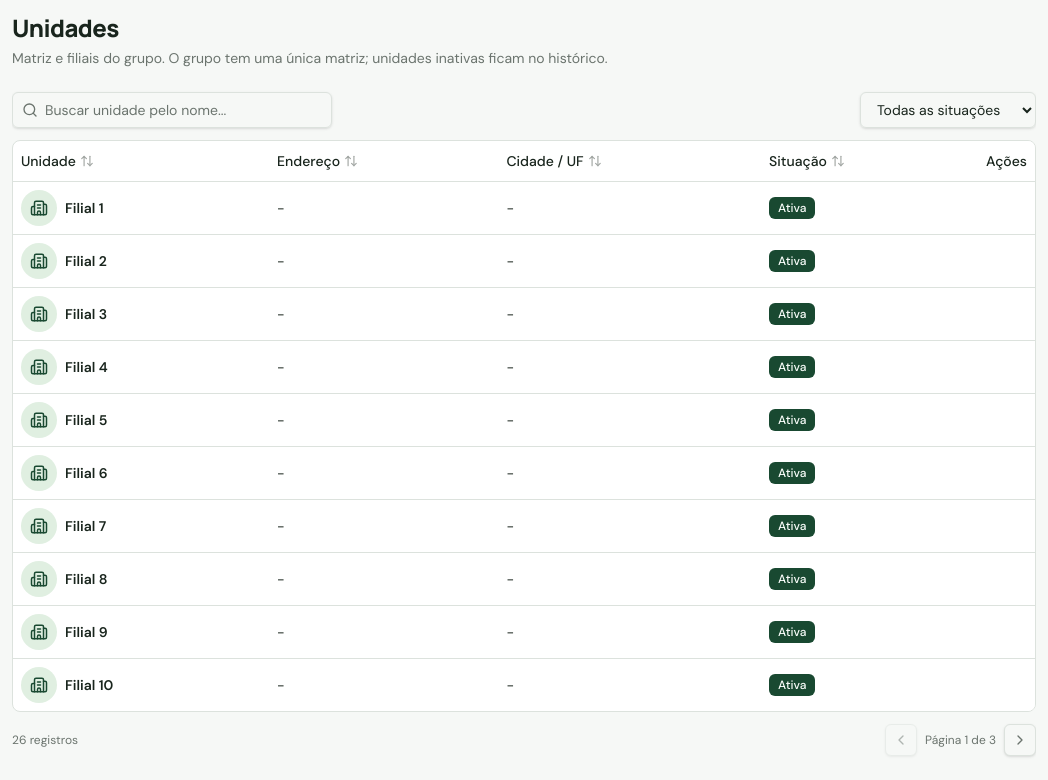
Test case: UnidadesPage › busca no servidor com debounce: 2 digitações = 1 GET com q, volta à página 1
Expected: the text "Filial 1" is shown, [21, 190, 104, 226]
Step 1. Click the button named "Próxima página" → [1020, 740], box [1004, 724, 1036, 756]
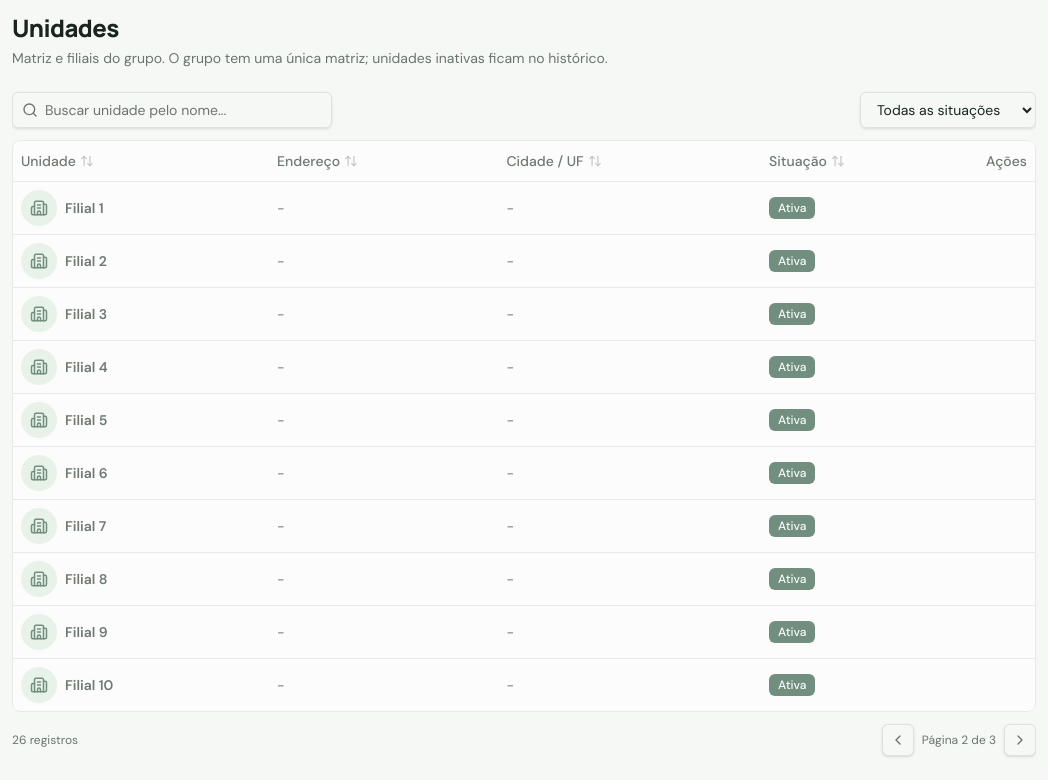
Step 2. Type "ze" into the field labelled "Buscar" → [172, 110], box [12, 92, 332, 128]
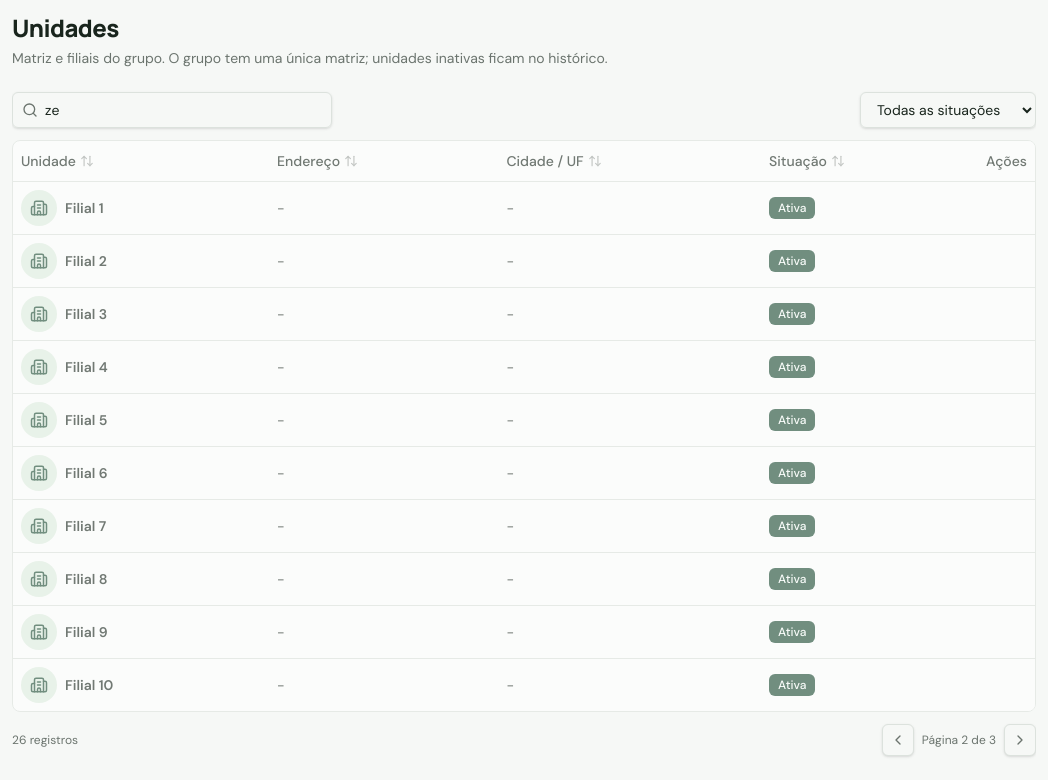
Step 3. Replace the text in the field named "Buscar" with "zeta" → [172, 110], box [12, 92, 332, 128]
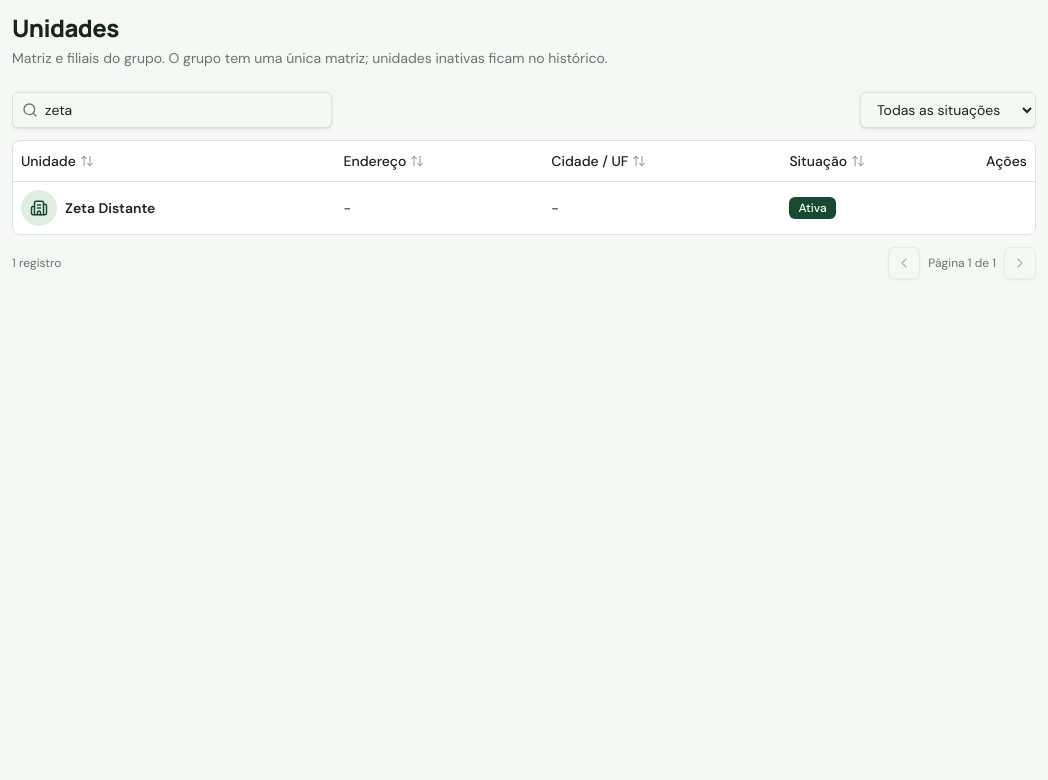
Expected: the text "Zeta Distante" is shown, [21, 190, 155, 226]
Expected: the text "Filial 1" is gone
Expected: the text with test id "table-count" reads "1 registro", [12, 254, 61, 270]
